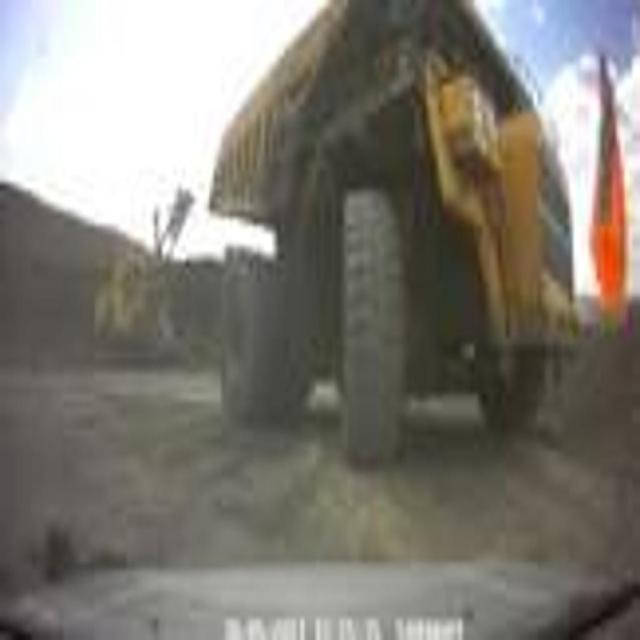dump_truck: (214, 4, 583, 482)
